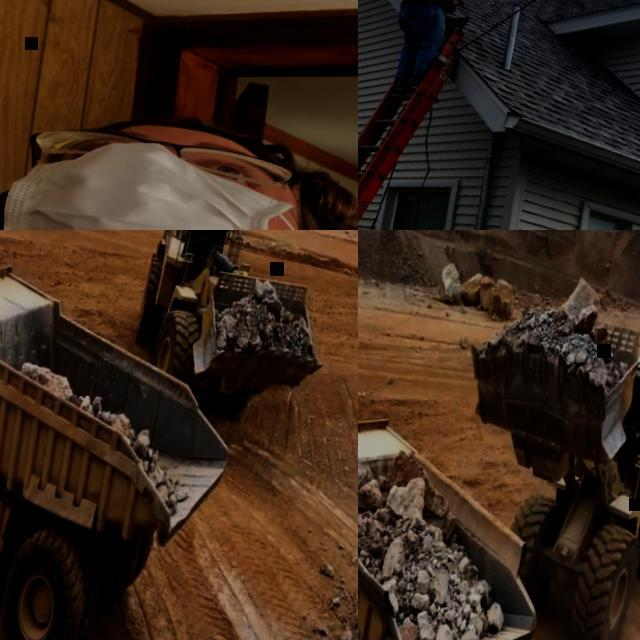machinery: (0, 237, 263, 640), (414, 277, 640, 640), (358, 387, 573, 640), (117, 230, 354, 448)
mask: (0, 120, 333, 230)
no_helmet: (98, 96, 356, 176)
person: (0, 50, 358, 230), (380, 0, 492, 109)
